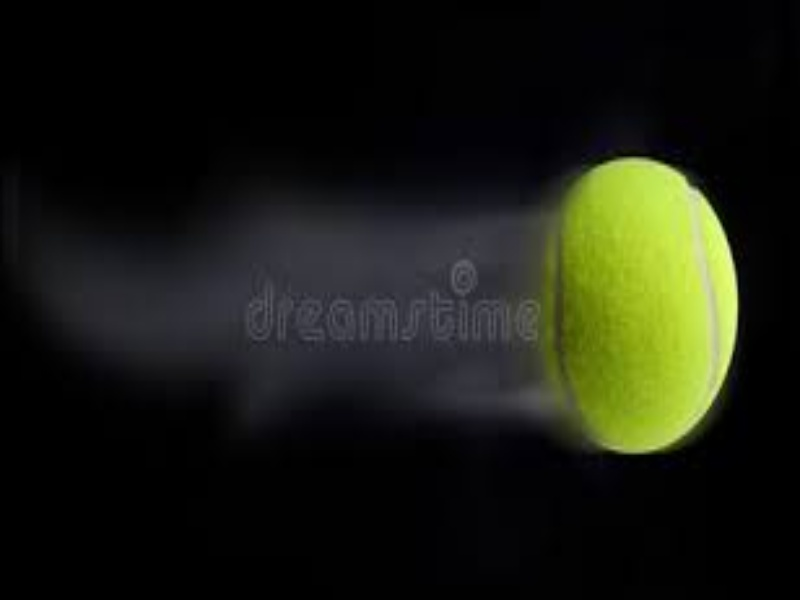tennis ball: (506, 150, 751, 455)
